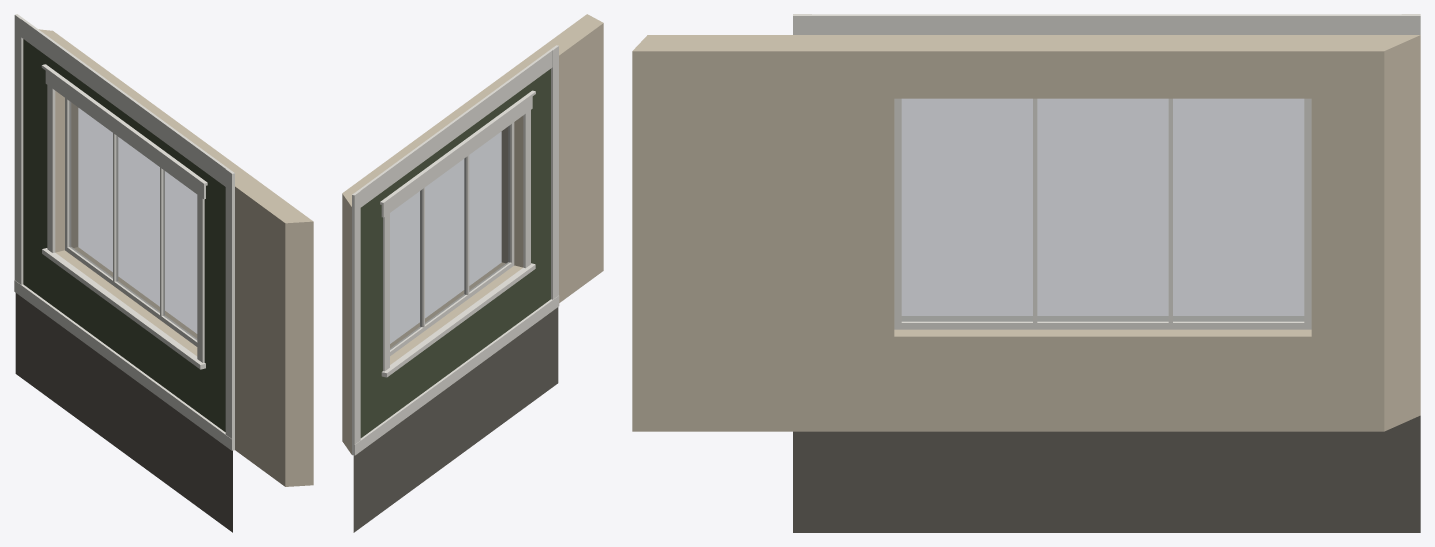
File: wall-02.glb
3 renders of one model, left to right at view 1: azimuth 30°, elevation 25°; view 2: azimuth 150°, elevation 25°; view 3: azimuth 270°, elevation 25°, orthographic. The views are drawn at different scales.
Bounding box in the file's own units: 0.9294 × 10.9 × 15.03.
